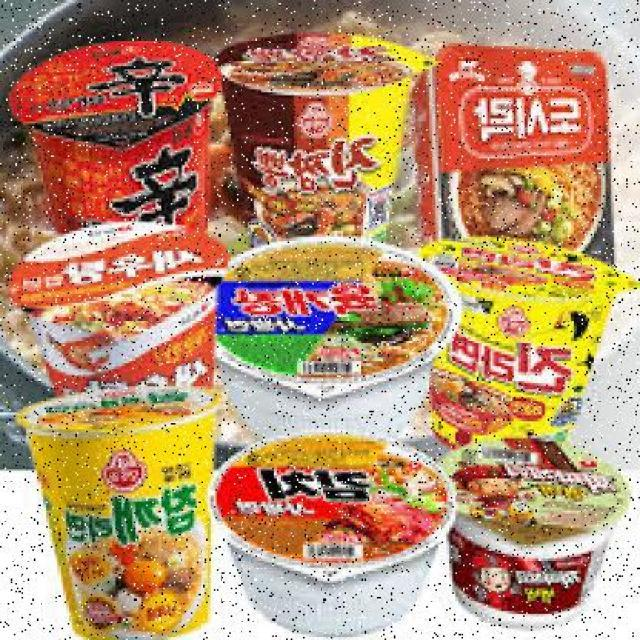Miscellaneous: (193, 233, 469, 442), (199, 422, 450, 630), (3, 225, 232, 450), (204, 35, 424, 268), (25, 387, 224, 635), (11, 34, 220, 268), (420, 244, 622, 462), (424, 442, 620, 626)
